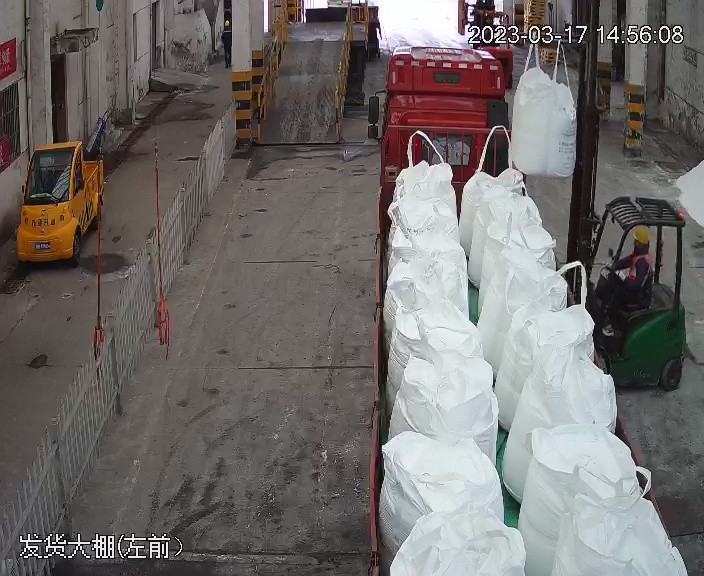head: (625, 226, 652, 271)
helmet: (631, 226, 650, 244)
people: (592, 225, 652, 337)
truck: (372, 42, 694, 575)
